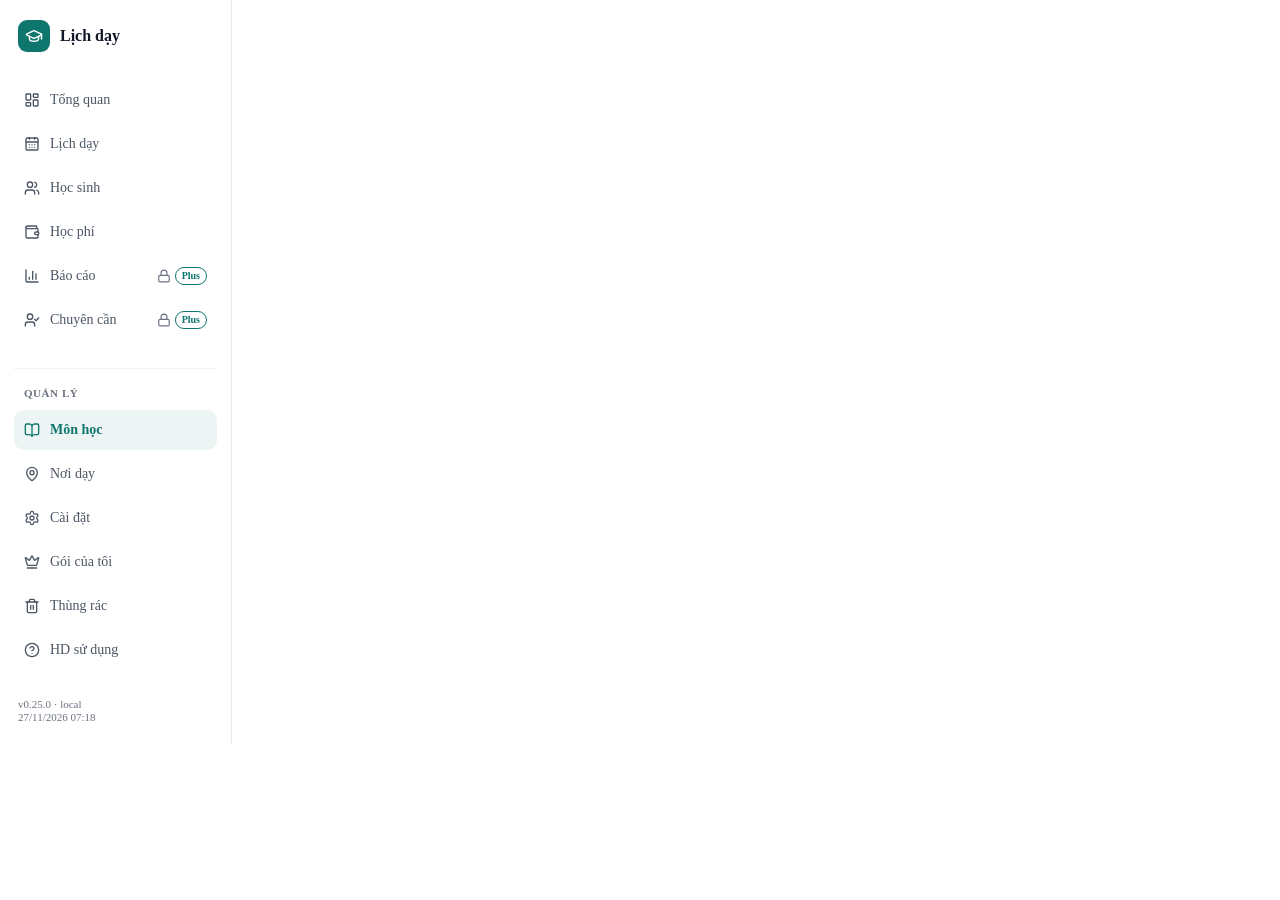
Test case: AppSidebar › gói Standard: Báo cáo vẫn hiện, có ổ khóa + nhãn Plus; bấm mở popup nâng cấp, không phải link
The width and height of the screenshot is (1280, 900).
Click the button "Báo cáo Plus".
click(116, 276)  # box [14,256,217,296]
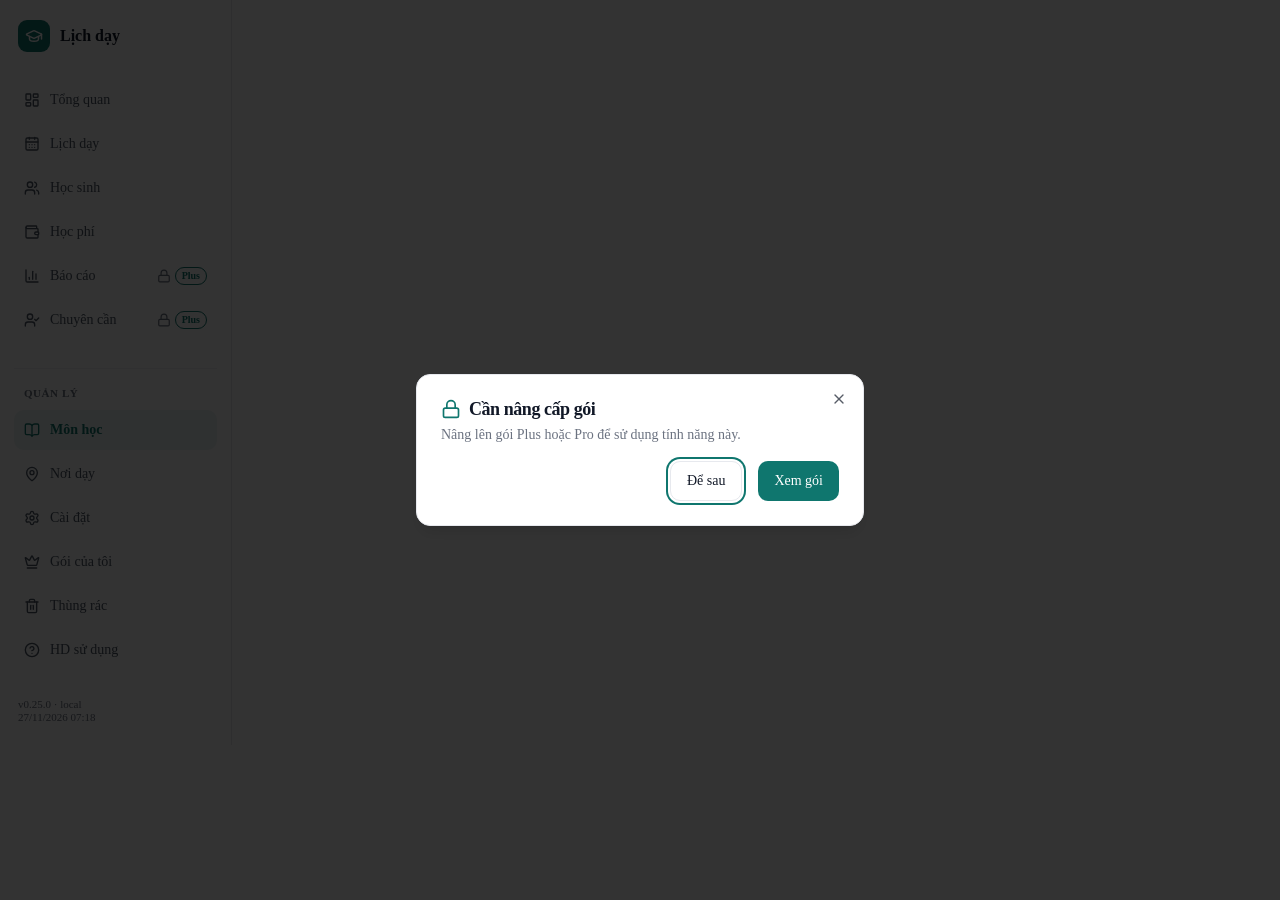
Expected: the text "Nâng lên gói Plus hoặc Pro để sử dụng tính năng này." is shown, [441,427,741,442]
